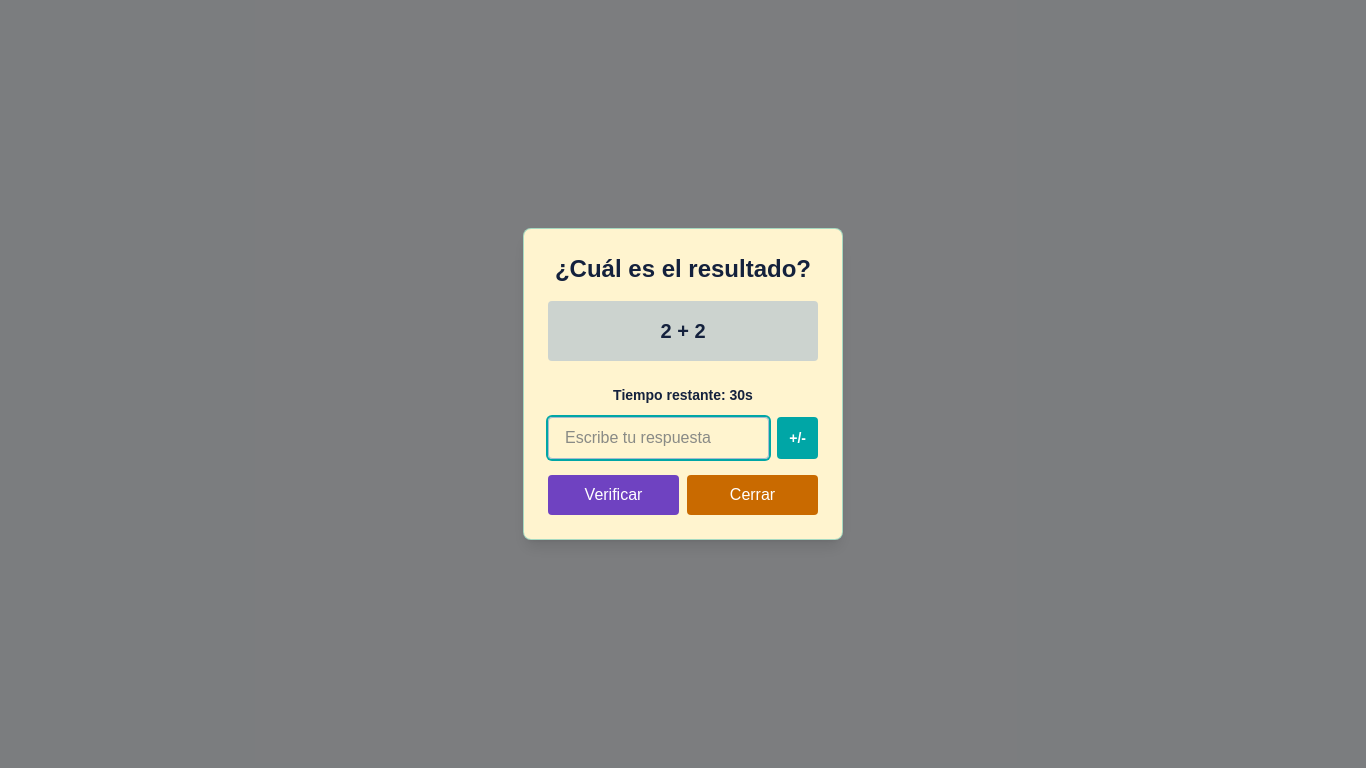
Test: QuestionModal answer flow › marks answer as correct without decreasing lives
Step 1. Type "4" into the field with placeholder "Escribe tu respuesta" → (659, 438), box [548, 417, 769, 459]
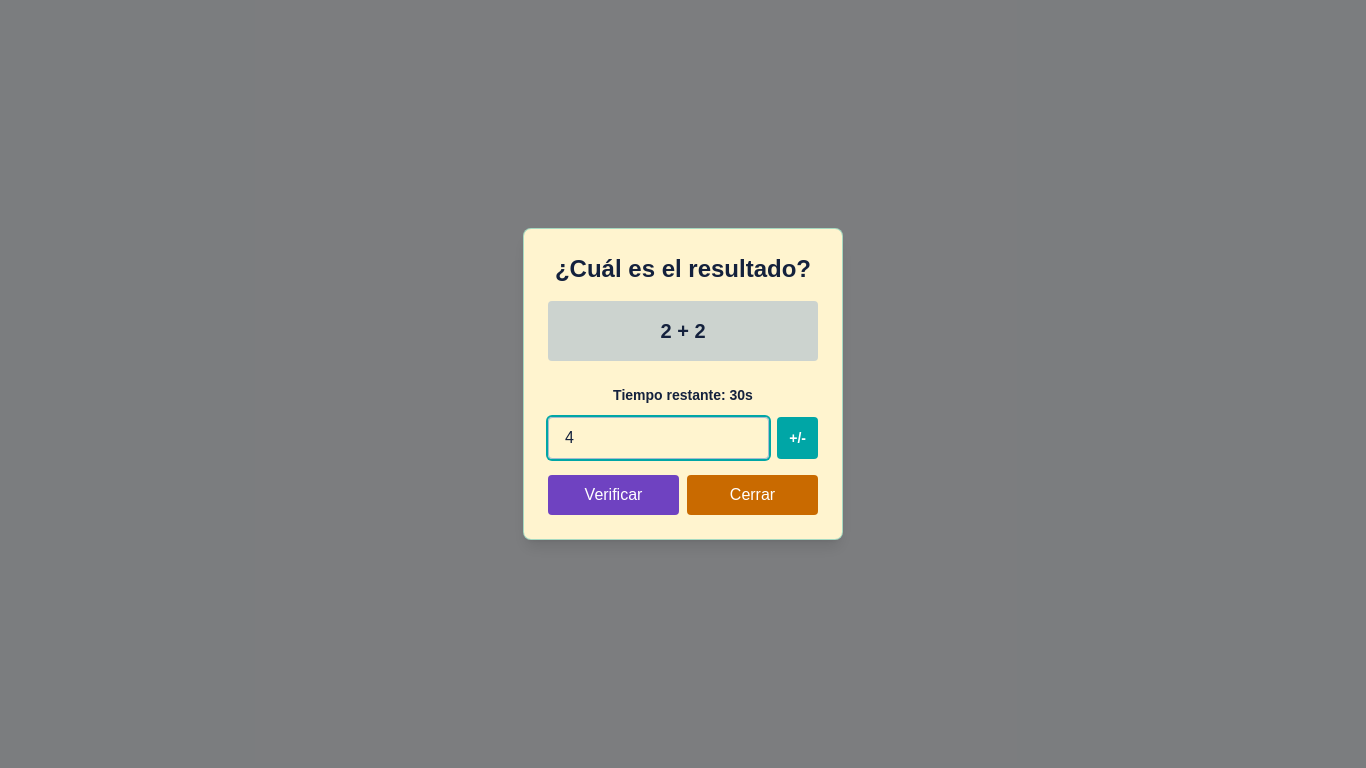
Step 2. Click the button "Verificar" → (614, 495), box [548, 475, 679, 515]
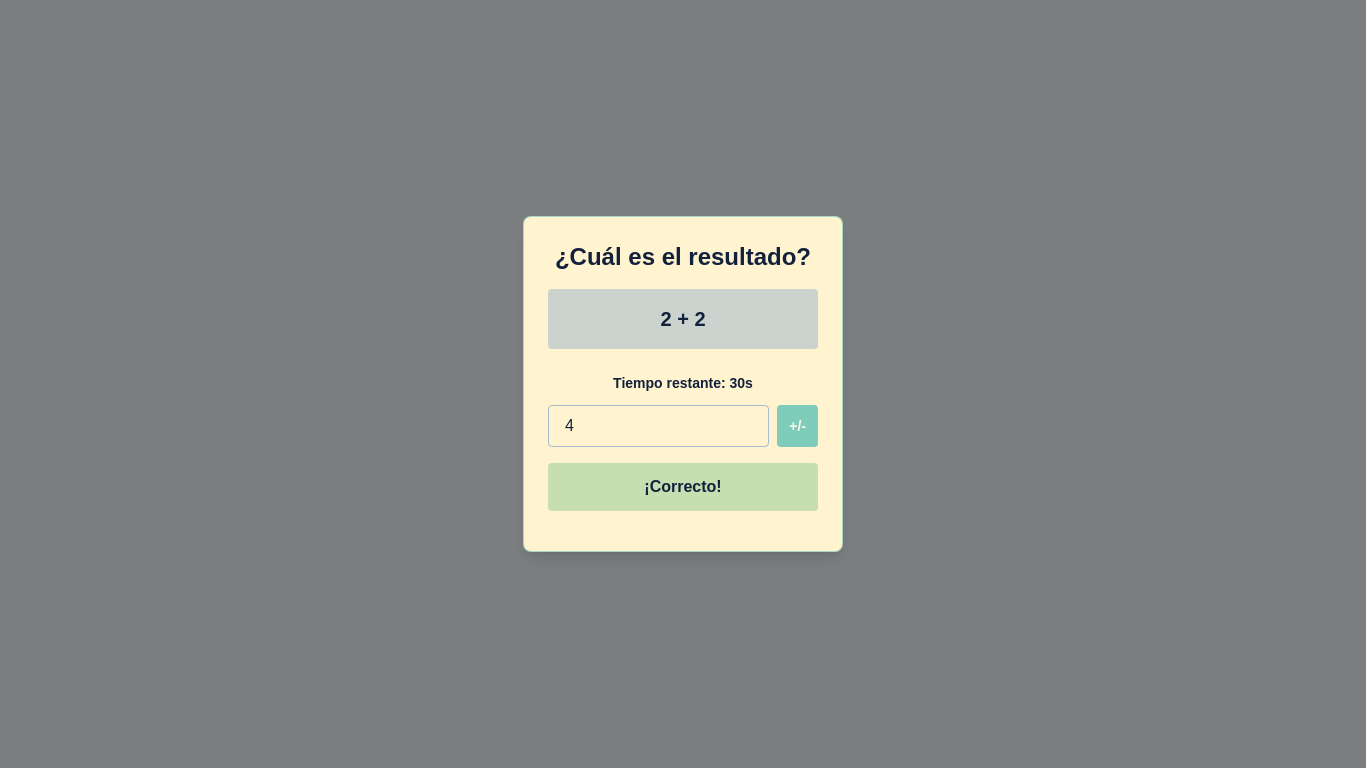
Result: the text "¡Correcto!" is shown at [548, 463, 818, 511]
